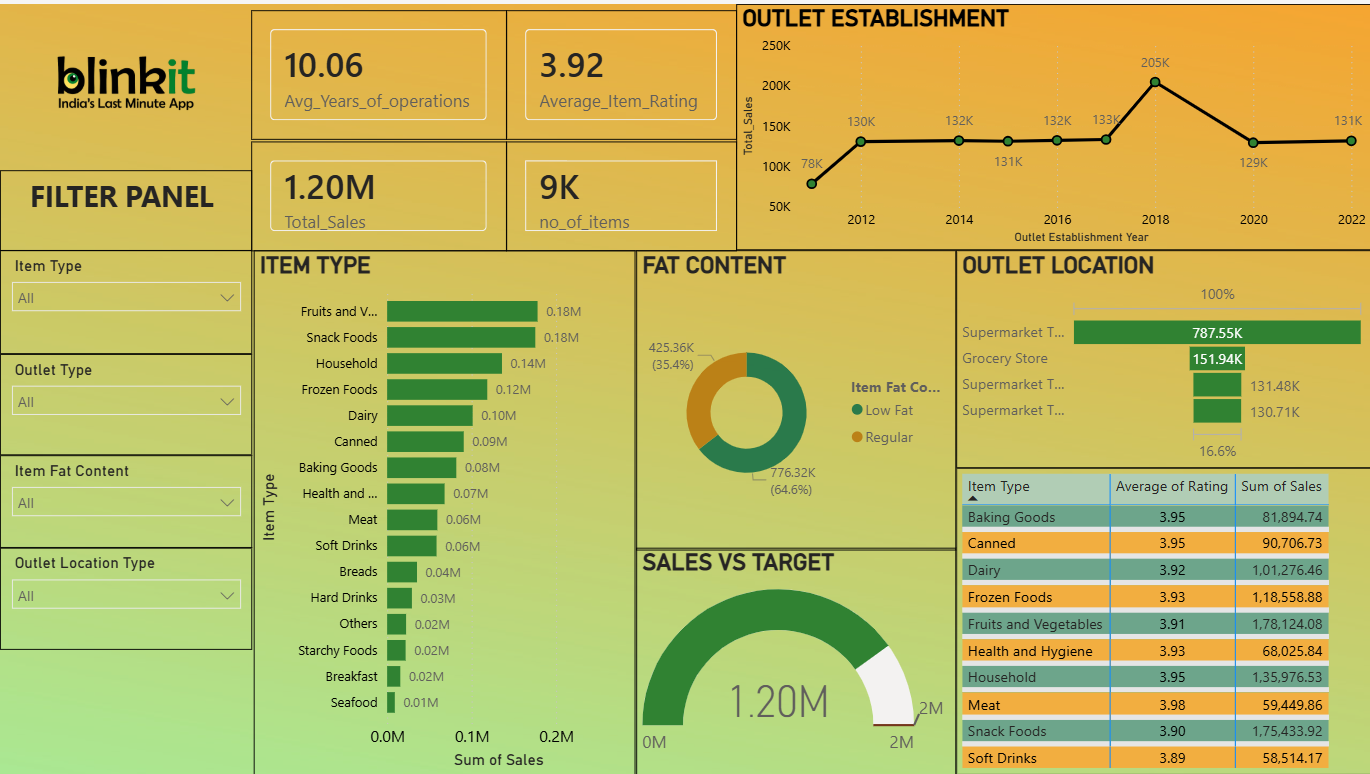

The dashboard page shown, as its layout file describes it:
{"tool":"powerbi","page":{"name":"Blinkit","canvas":[1280,720],"ordinal":0},"visuals":[{"type":"cardVisual","fields":{"Data":["BlinkIT Grocery Data.Total_Sales"]},"box":[234,127.8,238,102.2],"z":0},{"type":"cardVisual","fields":{"Data":["BlinkIT Grocery Data.Average_Item_Rating"]},"box":[472,5.4,215.2,121],"z":1000},{"type":"cardVisual","fields":{"Data":["BlinkIT Grocery Data.Avg_Years_of_operations"]},"box":[234,5.4,238,121],"z":2000},{"type":"cardVisual","fields":{"Data":["BlinkIT Grocery Data.no_of_items"]},"box":[472,127.8,215.2,102.2],"z":3000},{"type":"barChart","title":"ITEM TYPE","fields":{"Category":["Items.Item Type"],"Y":["Sum(BlinkIT Grocery Data.Sales)"]},"box":[236.7,230,356.4,489.5],"z":4000},{"type":"lineChart","title":"OUTLET ESTABLISHMENT","fields":{"Y":["BlinkIT Grocery Data.Total_Sales"],"Category":["Outlet Info.Outlet Establishment Year"]},"box":[687.2,0,593.1,230],"z":5000},{"type":"donutChart","title":"FAT CONTENT","fields":{"Category":["Items Content.Item Fat Content"],"Y":["BlinkIT Grocery Data.Total_Sales"]},"box":[593.1,230,298.6,279.7],"z":6000},{"type":"funnel","title":"OUTLET LOCATION","fields":{"Y":["BlinkIT Grocery Data.Total_Sales"],"Category":["Outlet Info.Outlet Type"]},"box":[891.6,230,388.6,203.1],"z":7000},{"type":"gauge","title":"SALES VS TARGET","fields":{"Y":["BlinkIT Grocery Data.Total_Sales"],"TargetValue":["BlinkIT Grocery Data.Sales Target"],"MaxValue":["BlinkIT Grocery Data.max sales"],"MinValue":["BlinkIT Grocery Data.Min sales"]},"box":[593.1,507,298.6,212.5],"z":8000},{"type":"slicer","fields":{"Values":["Items.Item Type"]},"box":[0,230,235.3,96.8],"z":9000},{"type":"pivotTable","fields":{"Values":["Avg(BlinkIT Grocery Data.Rating)","Sum(BlinkIT Grocery Data.Sales)"],"Rows":["Items.Item Type"]},"box":[891.6,433,388.6,286.4],"z":10000},{"type":"slicer","fields":{"Values":["Outlet Info.Outlet Type"]},"box":[0,326.8,235.3,94.1],"z":11000},{"type":"slicer","fields":{"Values":["Items Content.Item Fat Content"]},"box":[0,420.9,235.3,86.1],"z":12000},{"type":"slicer","fields":{"Values":["Outlet Location.Outlet Location Type"]},"box":[0,507,235.3,95.5],"z":13000},{"type":"textbox","box":[0,154.7,235.3,75.3],"z":14000},{"type":"image","box":[0,0,235.3,150.6],"z":15000}]}

Visuals, with their boxes in screenshot pixels (x1, y1, x2, y2), scaled from the page's 1280x720 canvas onto the 1370x774 screenshot:
cardVisual - BlinkIT Grocery Data.Total_Sales: locate(250, 137, 505, 247)
cardVisual - BlinkIT Grocery Data.Average_Item_Rating: locate(505, 6, 736, 136)
cardVisual - BlinkIT Grocery Data.Avg_Years_of_operations: locate(250, 6, 505, 136)
cardVisual - BlinkIT Grocery Data.no_of_items: locate(505, 137, 736, 247)
"ITEM TYPE" barChart: locate(253, 247, 635, 773)
"OUTLET ESTABLISHMENT" lineChart: locate(736, 0, 1369, 247)
"FAT CONTENT" donutChart: locate(635, 247, 954, 548)
"OUTLET LOCATION" funnel: locate(954, 247, 1369, 466)
"SALES VS TARGET" gauge: locate(635, 545, 954, 773)
slicer - Items.Item Type: locate(0, 247, 252, 351)
pivotTable - Avg(BlinkIT Grocery Data.Rating) x Sum(BlinkIT Grocery Data.Sales): locate(954, 465, 1369, 773)
slicer - Outlet Info.Outlet Type: locate(0, 351, 252, 452)
slicer - Items Content.Item Fat Content: locate(0, 452, 252, 545)
slicer - Outlet Location.Outlet Location Type: locate(0, 545, 252, 648)
textbox: locate(0, 166, 252, 247)
image: locate(0, 0, 252, 162)
